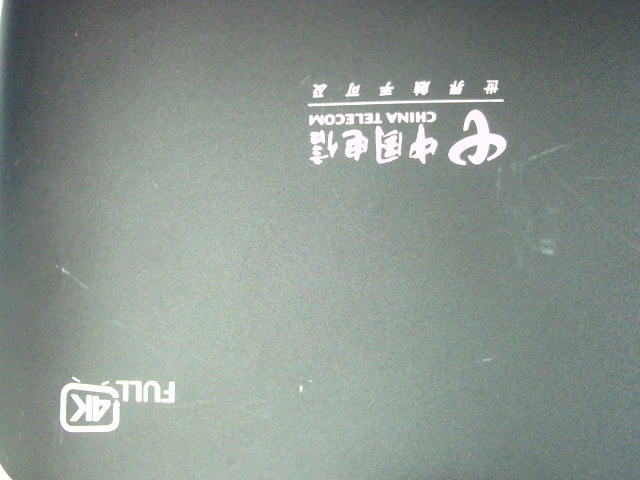AB_ChinaTelecom: (284, 77, 525, 171)
